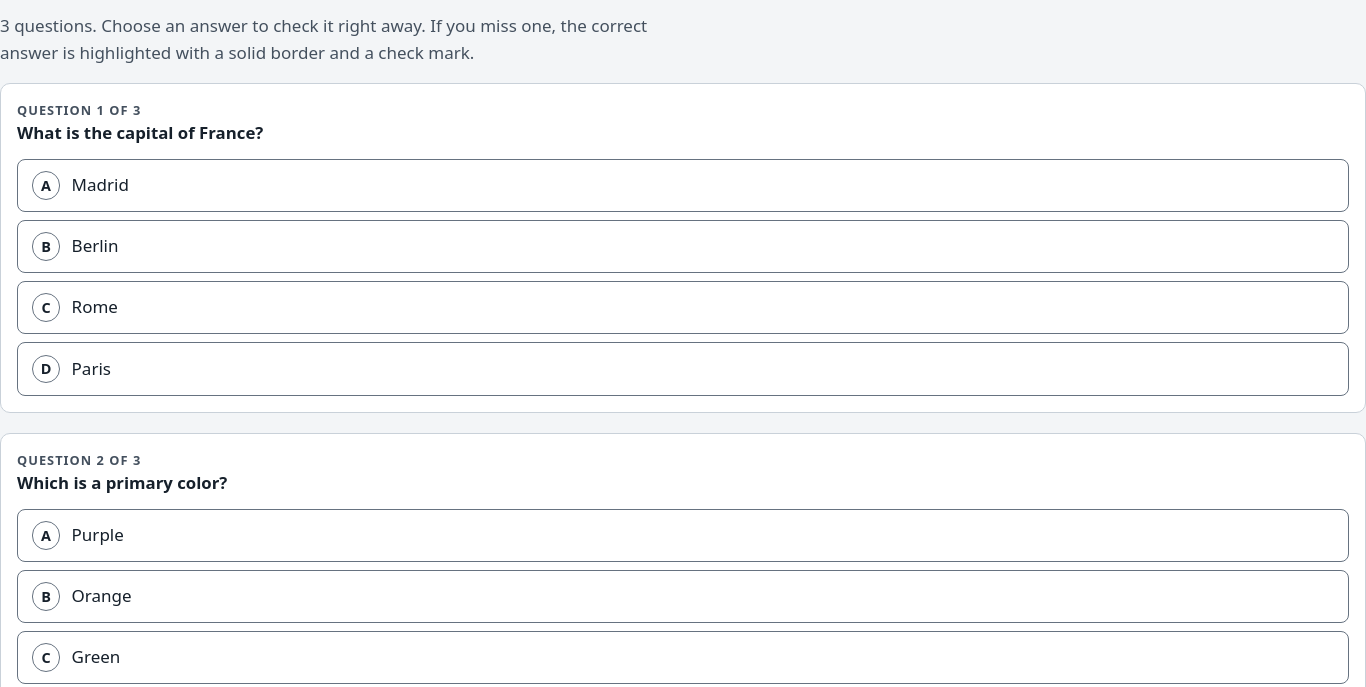
Test: Quiz › reports the score once every question is answered
Click the button "D Paris" at (91, 368), box [17, 342, 1349, 396]
(page scrolled)
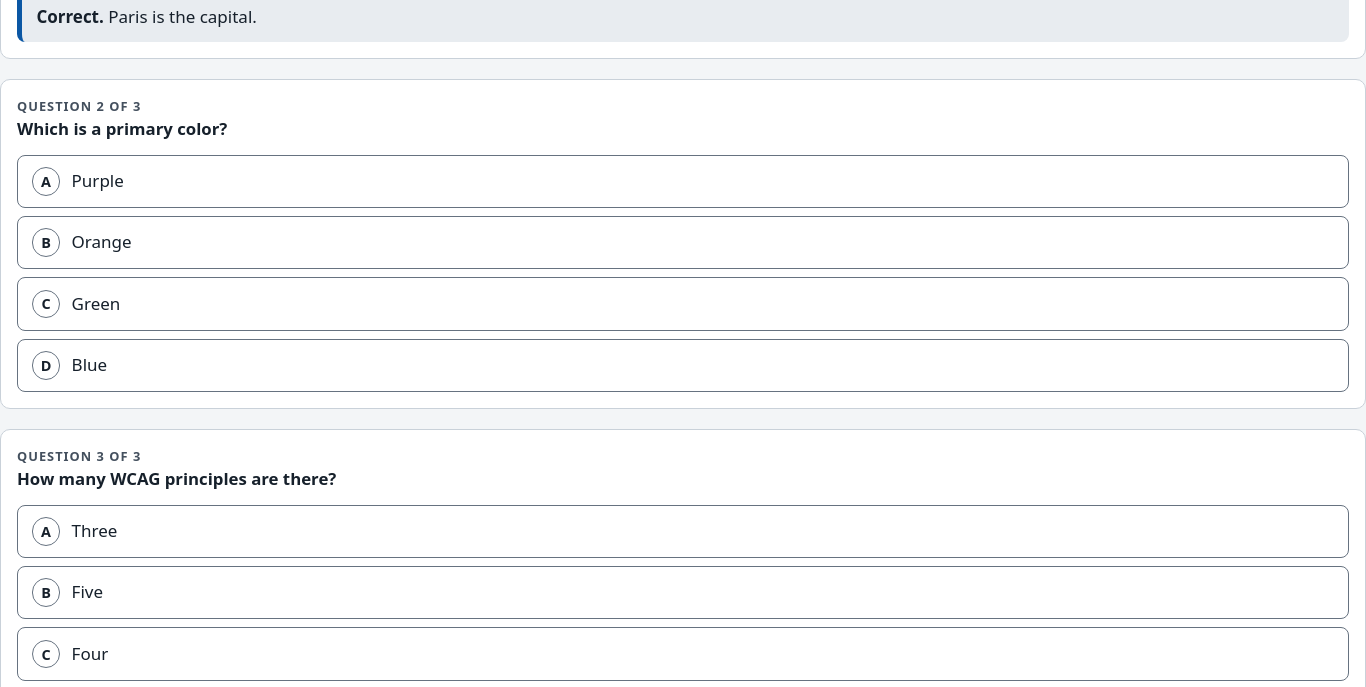
Click the button "C Green" at (96, 303), box [17, 277, 1349, 331]
(page scrolled)
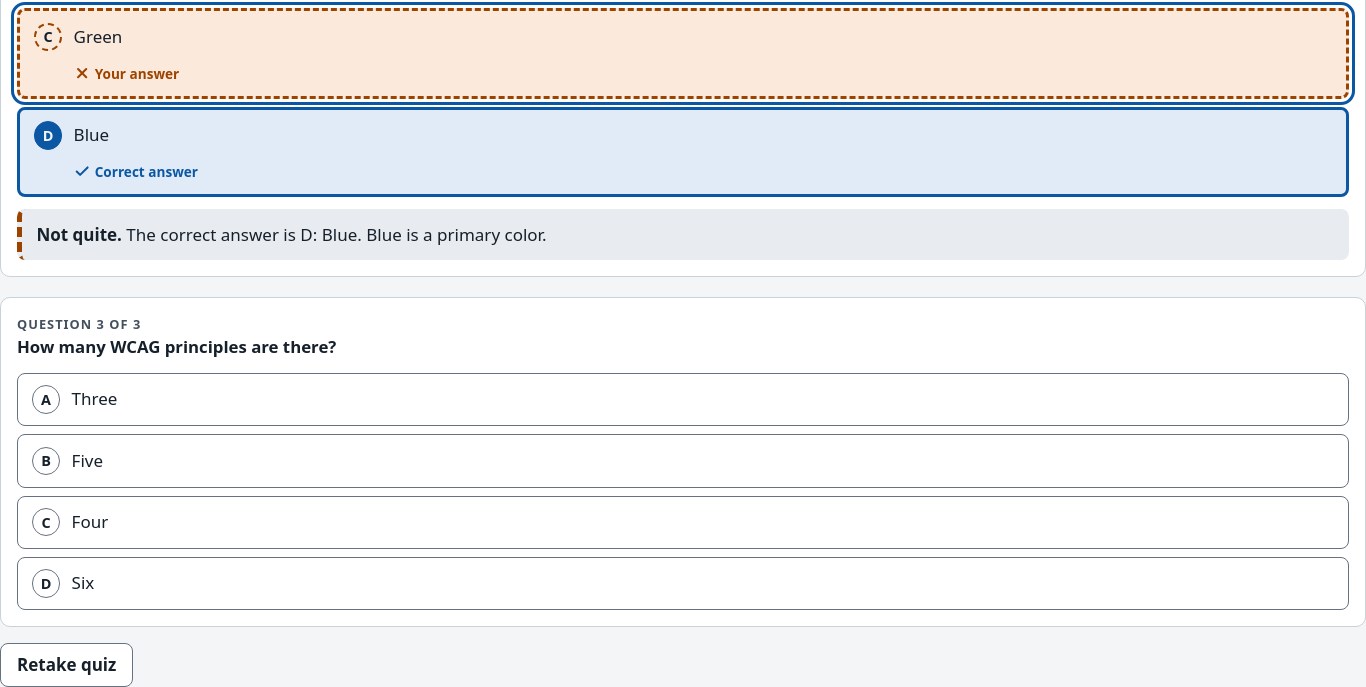
Click the button "C Four" at (90, 521), box [17, 496, 1349, 549]
(page scrolled)
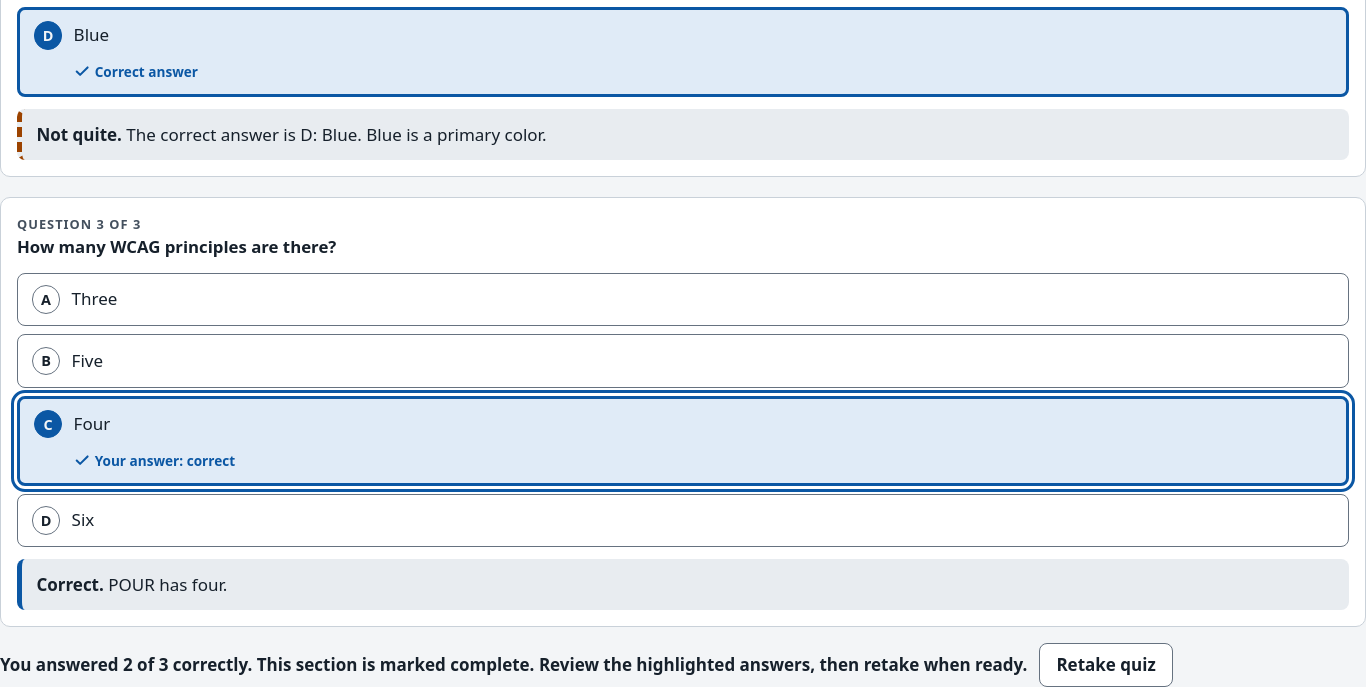
expect the text "You answered 2 of 3 correctly" is shown: met, box [0, 651, 1027, 679]
